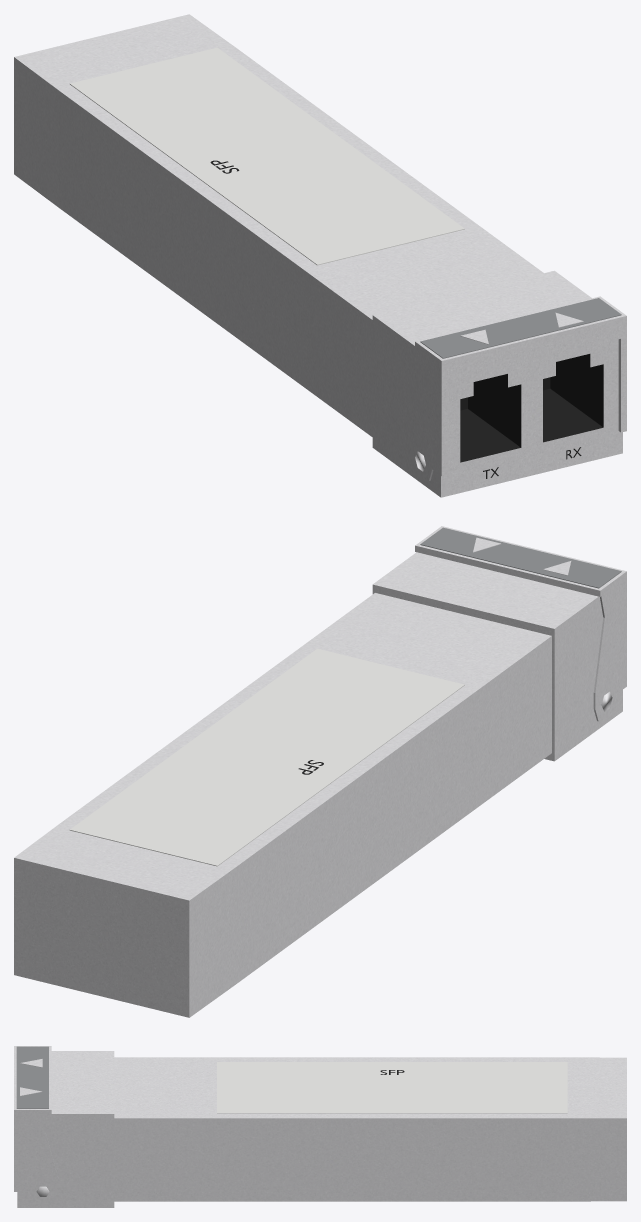
The model's file is SFP-GENERIC.glb.
The picture shows the model from 3 angles, top to bottom: view 1: azimuth 30°, elevation 25°; view 2: azimuth 150°, elevation 25°; view 3: azimuth 270°, elevation 25°; orthographic projection. The views are drawn at different scales.
Parts seen in each view (by area): view 1: SFP-GENERIC_Housing, SFP-GENERIC_Labels, SFP-GENERIC_Bail; view 2: SFP-GENERIC_Housing, SFP-GENERIC_Labels, SFP-GENERIC_Bail; view 3: SFP-GENERIC_Housing, SFP-GENERIC_Labels, SFP-GENERIC_Bail.
Part boxes in pixels (x1,y1,x2,y2): SFP-GENERIC_Housing: [14, 14, 622, 497]; SFP-GENERIC_Labels: [70, 47, 464, 265]; SFP-GENERIC_Bail: [410, 296, 626, 481]; SFP-GENERIC_Housing: [14, 552, 622, 1017]; SFP-GENERIC_Labels: [69, 648, 464, 866]; SFP-GENERIC_Bail: [415, 526, 626, 721]; SFP-GENERIC_Housing: [17, 1051, 626, 1207]; SFP-GENERIC_Labels: [217, 1062, 567, 1113]; SFP-GENERIC_Bail: [14, 1046, 58, 1205].
Size of the model in its own units: 0.0142 by 0.0101 by 0.0568.
4 materials, 1 textured.
